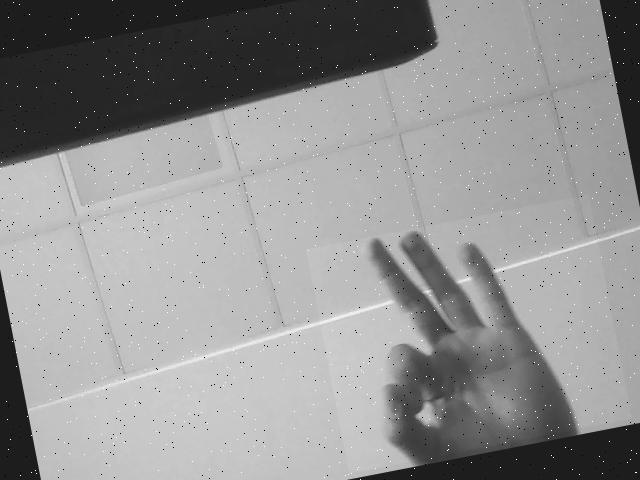OK: (305, 194, 632, 472)
